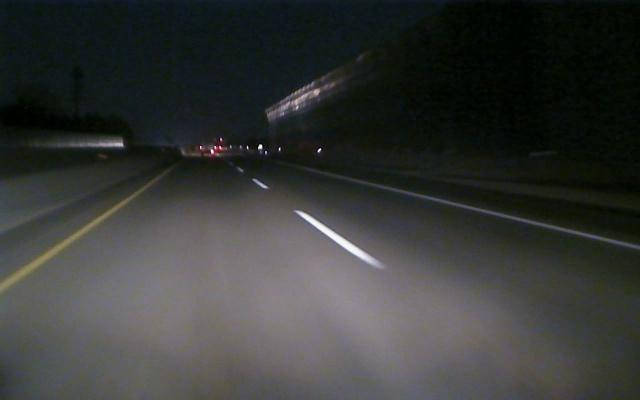lane: (347, 178, 638, 251), (1, 188, 144, 294), (254, 179, 390, 269)
